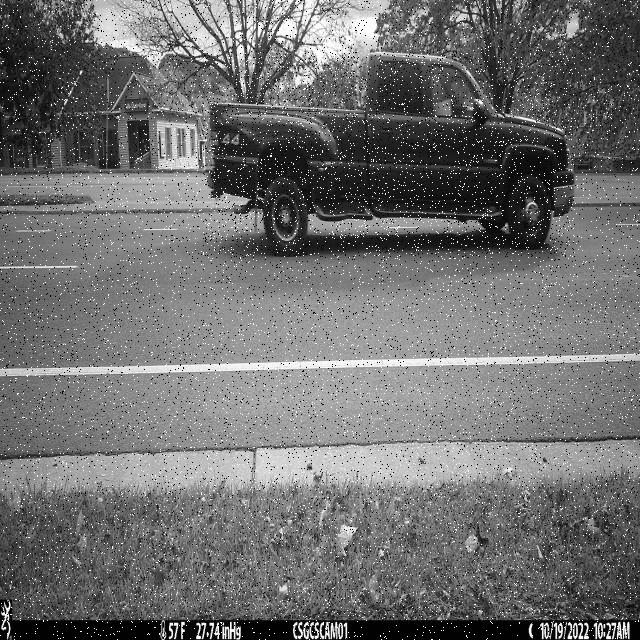Pickup: (203, 52, 575, 258)
